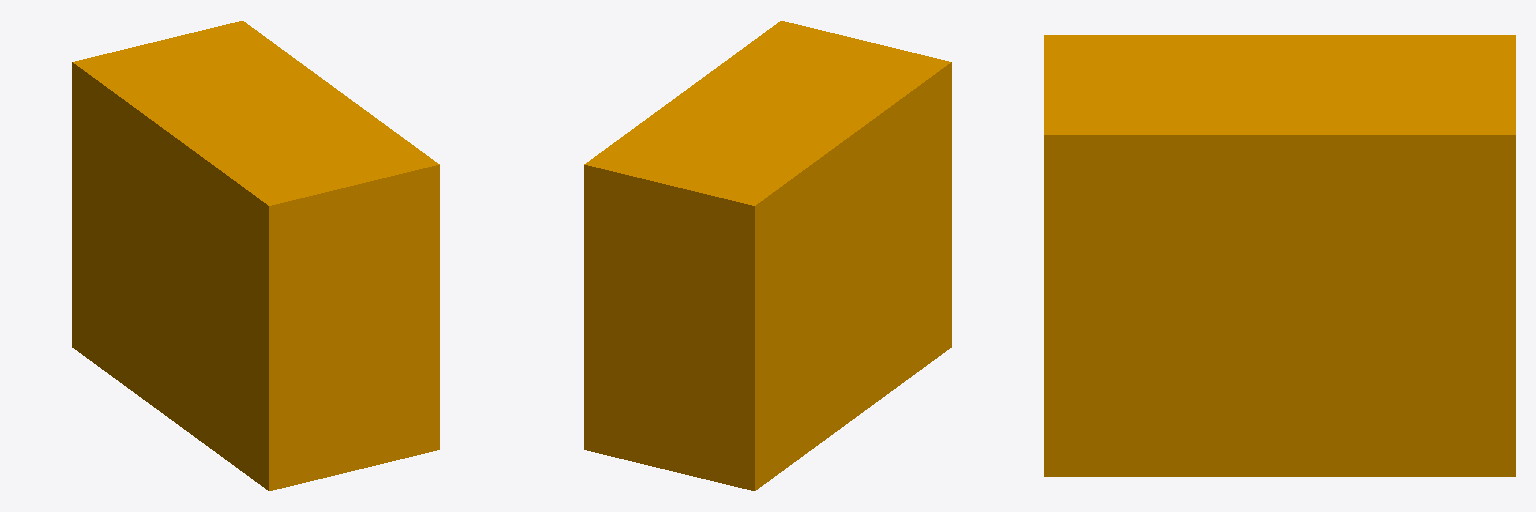
URDF robot description (red_box_small):
<?xml version="1.0"?>

<robot name="red_box_small">
    
  <link name="red_box_small">
    <inertial>
      <origin xyz="0 0 0" />
      <mass value="0.01" />
      <inertia  ixx="0.0" ixy="0.0"  ixz="0.0"  iyy="0.0"  iyz="0.0"  izz="0.0" />
    </inertial>
    <visual>
      <origin xyz="0 0 0"/>
      <geometry>
        <box size="0.05 0.1 0.08" />
      </geometry>
    </visual>
    <collision>
      <origin xyz="0 0 0"/>
      <geometry>
        <box size="0.05 0.1 0.08" />
      </geometry>
    </collision>
  </link>
  
  <gazebo reference="red_box_small">
    <material>Gazebo/Red</material>
  </gazebo>
  
</robot>

--- Render facts (derived) ---
3 views of the same robot in one strip: view 1: azimuth 30°, elevation 25°; view 2: azimuth 150°, elevation 25°; view 3: azimuth 270°, elevation 25° (orthographic).
Robot: red_box_small — 1 links, 0 joints (none); root link red_box_small; default pose: all joints at 0.
Links seen in each view (by area): view 1: red_box_small; view 2: red_box_small; view 3: red_box_small.
Boxes of the visible links, x1,y1,x2,y2 form: red_box_small: [72, 21, 439, 490]; red_box_small: [584, 21, 951, 490]; red_box_small: [1044, 35, 1515, 476].
Size in the robot's own frame: 0.05 by 0.1 by 0.08 metres.
Geometry: primitives only (box / cylinder / sphere), no mesh files.